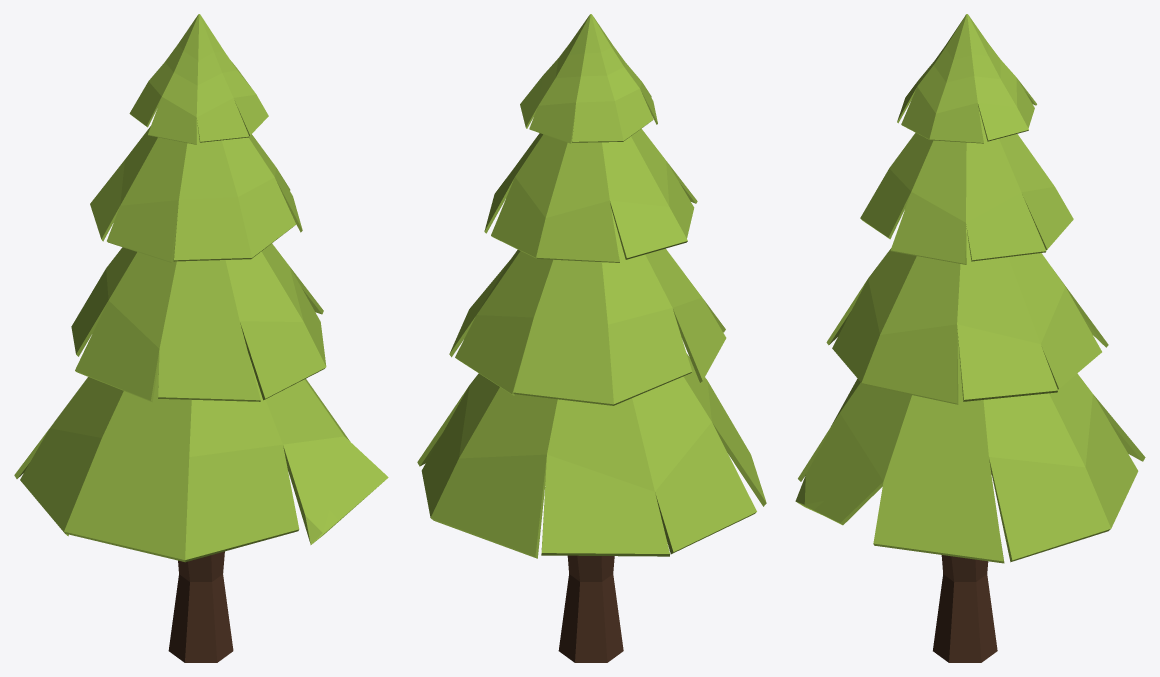
The model's file is Tree_3.fbx.
3 views of the same model, side by side, from view 1: azimuth 30°, elevation 25°; view 2: azimuth 150°, elevation 25°; view 3: azimuth 270°, elevation 25° (orthographic).
Visible parts, largest first — view 1: M_Tree 3; view 2: M_Tree 3; view 3: M_Tree 3.
Part boxes in pixels (x1=…): M_Tree 3: x1=14, y1=14, x2=388, y2=662; M_Tree 3: x1=417, y1=14, x2=766, y2=662; M_Tree 3: x1=795, y1=14, x2=1145, y2=662.
Bounding box in the file's own units: 0.8332 × 1.63 × 0.8137.
1 material, 1 textured.
